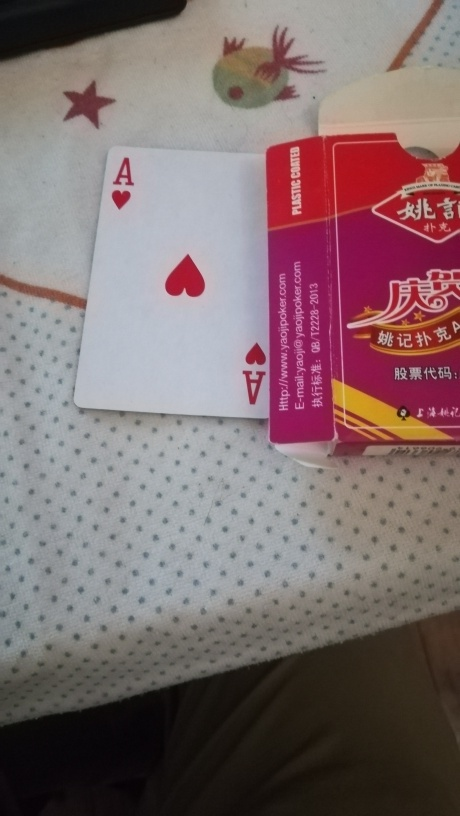hx a: (70, 145, 291, 417)
